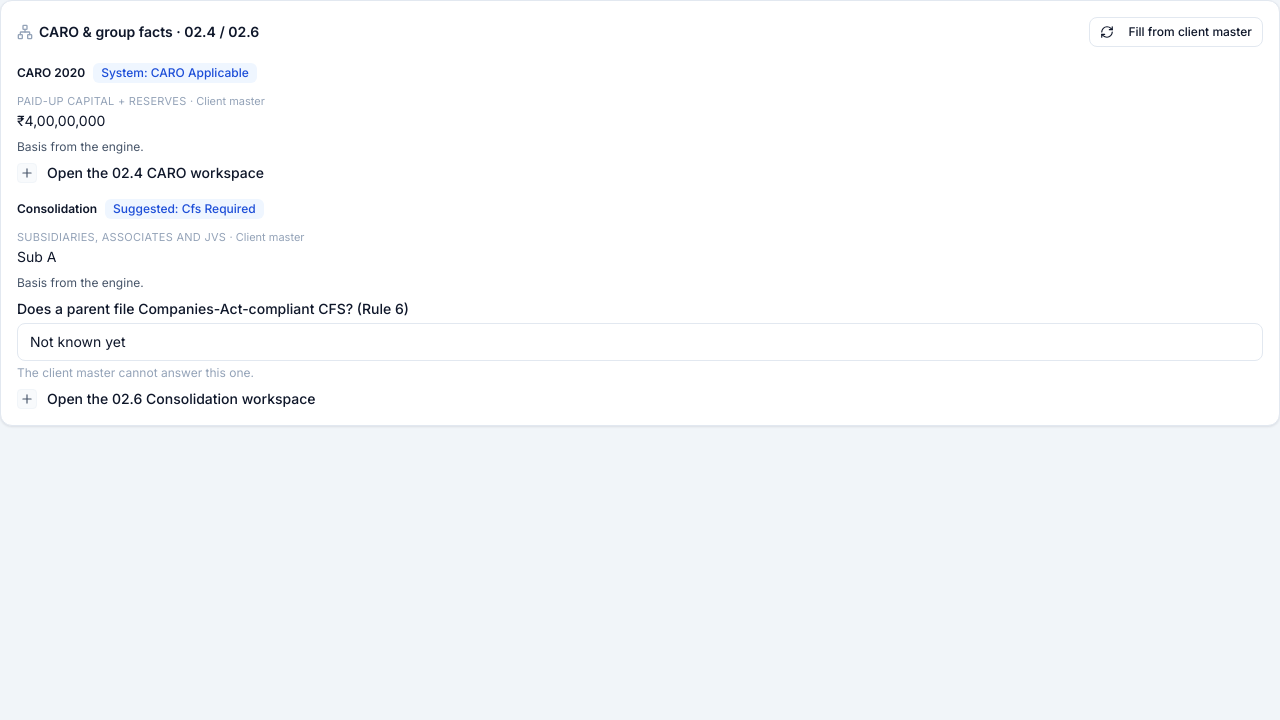
CARO & group facts card › opens the 02.4 CARO workspace inline (no pop-up)
The width and height of the screenshot is (1280, 720).
Click the button "Open the 02.4 CARO workspace": (140, 173) left=17, top=163, right=264, bottom=183
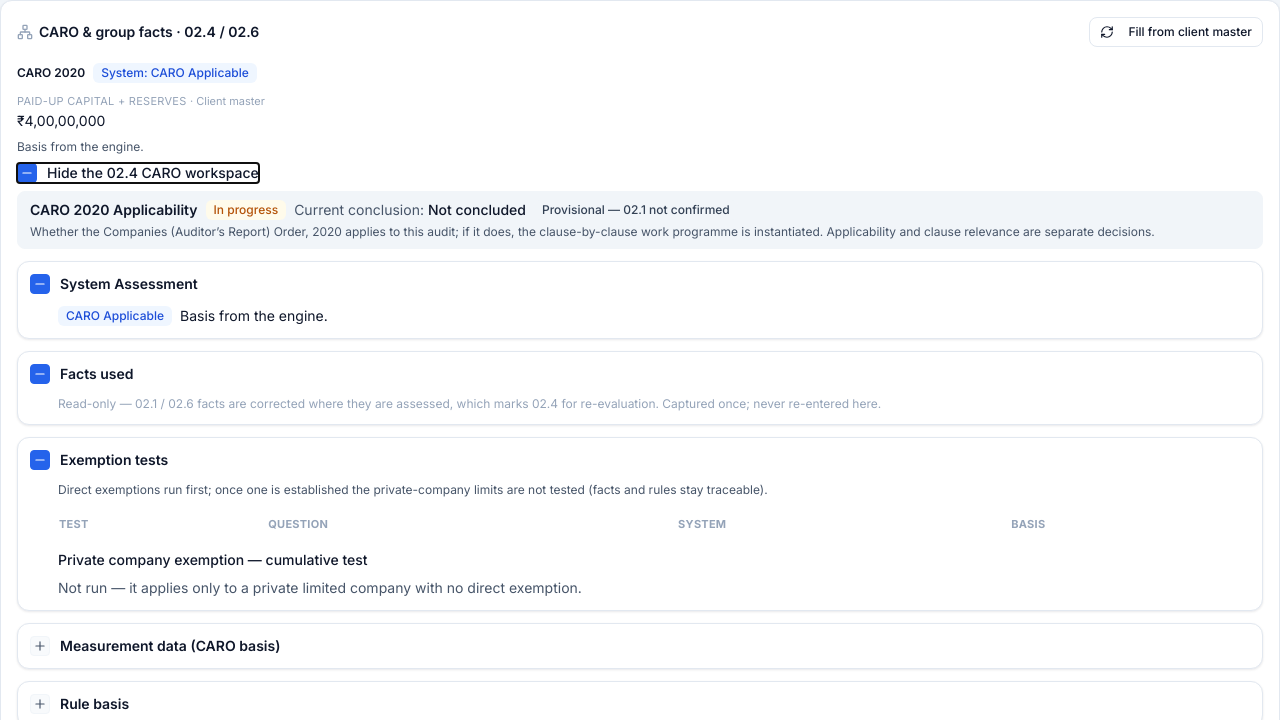
Now the text "CARO 2020 Applicability" is shown, box left=30, top=200, right=198, bottom=220
